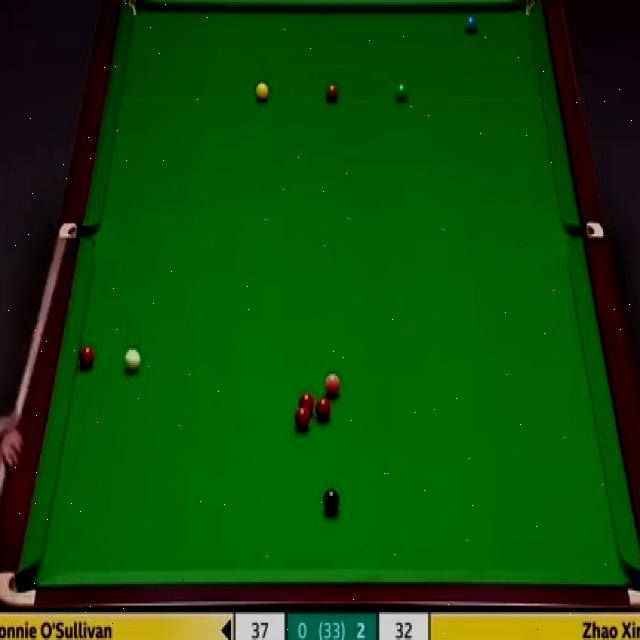black-ball: (322, 488, 340, 516)
blue-ball: (463, 9, 480, 35)
brown-ball: (325, 82, 340, 104)
green-ball: (394, 82, 409, 105)
pink-ball: (321, 372, 341, 399)
red-ball: (314, 396, 332, 420), (294, 407, 311, 432), (79, 341, 96, 366), (297, 392, 315, 414)
white-ball: (122, 346, 141, 377)
yellow-ball: (255, 81, 270, 103)
